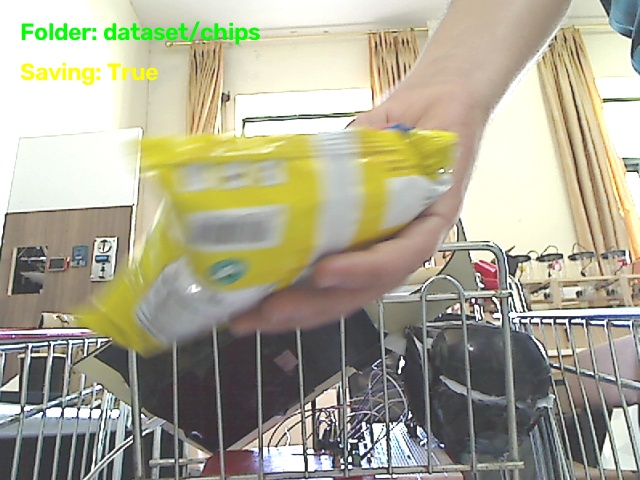chips: (76, 129, 456, 354)
